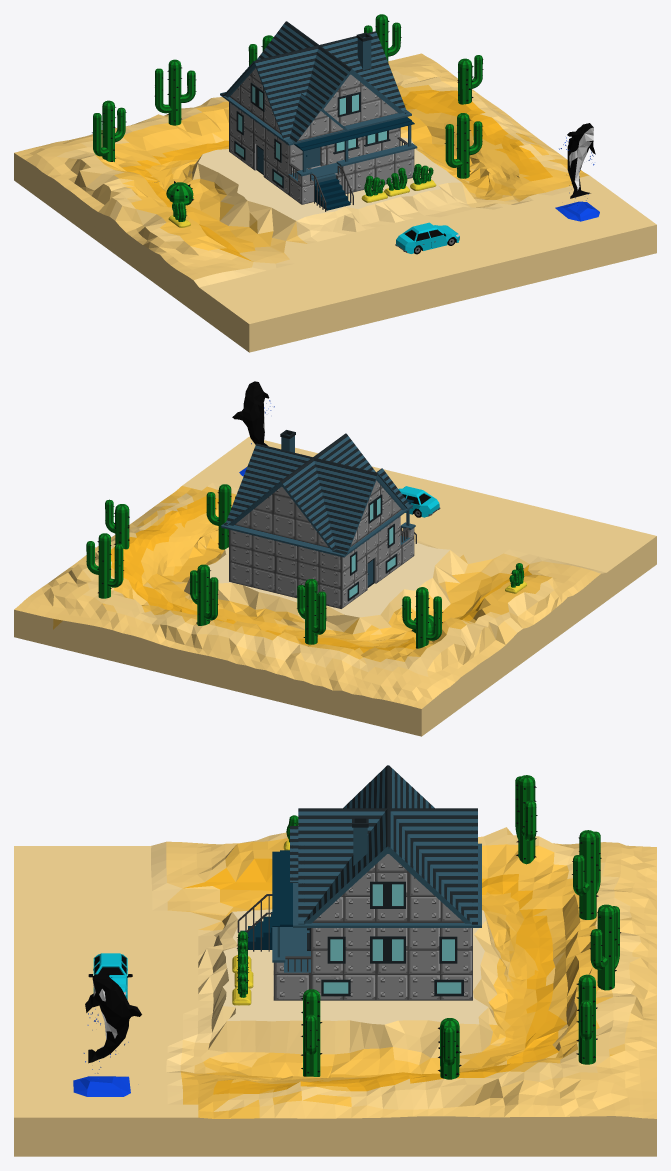
3 renders of one model, top to bottom at view 1: azimuth 30°, elevation 25°; view 2: azimuth 150°, elevation 25°; view 3: azimuth 270°, elevation 25°, orthographic. The views are drawn at different scales.
Parts seen in each view (by area): view 1: Cube.001, Cube.078, ANIMAL_ORCA, Cylinder.044, Cylinder.037, Cylinder.045, VEHICLES_CAR, Cylinder.038, Cylinder.042, Cylinder.039, Cylinder.041, Sphere.023 (+1 smaller); view 2: Cube.001, Cube.078, Cylinder.042, Cylinder.045, Cylinder.044, Cylinder.043, ANIMAL_ORCA, Cylinder.037, Cylinder.038, VEHICLES_CAR; view 3: Cube.001, Cube.078, ANIMAL_ORCA, Cylinder.043, Cylinder.044, Cylinder.045, Cylinder.042, Cylinder.037, Cylinder.038, VEHICLES_CAR, Cylinder.041.
Part boxes in pixels (bbox=[...]): Cube.001: bbox=[14, 53, 656, 352]; Cube.078: bbox=[220, 21, 417, 211]; ANIMAL_ORCA: bbox=[555, 123, 599, 221]; Cylinder.044: bbox=[154, 59, 196, 125]; Cylinder.037: bbox=[444, 113, 482, 178]; Cylinder.045: bbox=[92, 100, 126, 161]; VEHICLES_CAR: bbox=[395, 222, 459, 254]; Cylinder.038: bbox=[457, 55, 483, 104]; Cylinder.042: bbox=[364, 14, 401, 62]; Cylinder.039: bbox=[361, 175, 387, 202]; Cylinder.041: bbox=[410, 164, 436, 190]; Sphere.023: bbox=[166, 181, 193, 205]; Cube.001: bbox=[14, 436, 656, 736]; Cube.078: bbox=[221, 430, 416, 608]; Cylinder.042: bbox=[86, 533, 123, 598]; Cylinder.045: bbox=[402, 587, 442, 648]; Cylinder.044: bbox=[297, 579, 326, 644]; Cylinder.043: bbox=[190, 564, 218, 625]; ANIMAL_ORCA: bbox=[232, 381, 274, 476]; Cylinder.037: bbox=[206, 484, 235, 549]; Cylinder.038: bbox=[105, 499, 129, 549]; VEHICLES_CAR: bbox=[398, 486, 440, 517]; Cube.001: bbox=[14, 827, 656, 1156]; Cube.078: bbox=[237, 765, 481, 1000]; ANIMAL_ORCA: bbox=[73, 973, 141, 1096]; Cylinder.043: bbox=[589, 904, 620, 990]; Cylinder.044: bbox=[572, 830, 601, 919]; Cylinder.045: bbox=[515, 775, 537, 864]; Cylinder.042: bbox=[576, 974, 597, 1064]; Cylinder.037: bbox=[301, 989, 322, 1076]; Cylinder.038: bbox=[438, 1018, 461, 1079]; VEHICLES_CAR: bbox=[88, 953, 132, 999]; Cylinder.041: bbox=[232, 963, 251, 1005].
Size of the model in its own units: 4002 by 1577 by 4001.
Materials: 27 (5 with a texture image).
